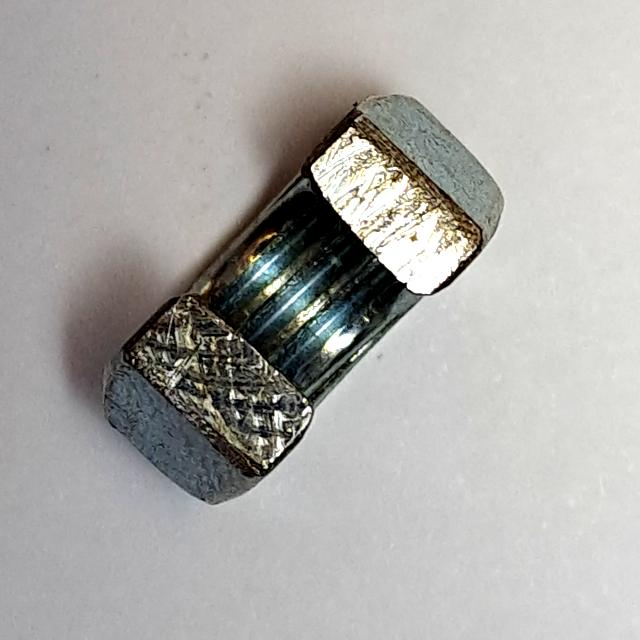Side-Fracture: (92, 86, 514, 519)
